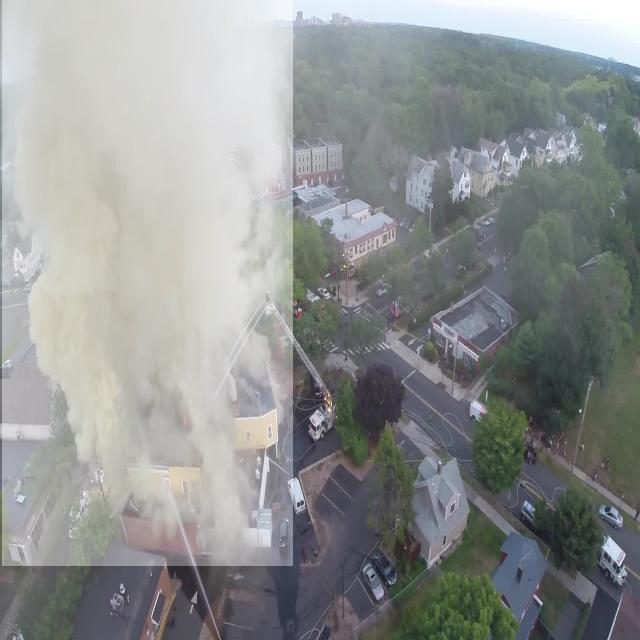Smoke: (2, 0, 293, 566)
